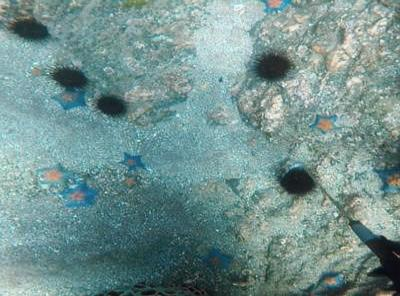urchin: (254, 50, 293, 82), (281, 165, 318, 198), (8, 16, 51, 42), (49, 63, 89, 90), (94, 91, 130, 119)
